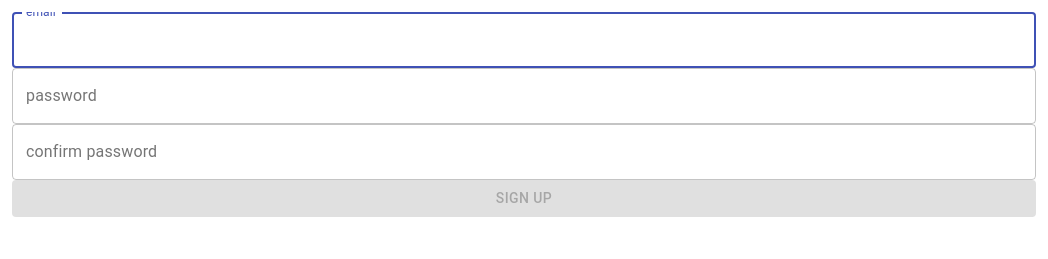
it: if all fields are filled in and validated, sign up button is no longer disabled.
The image size is (1048, 259).
Type "email@email.com" into the field labelled "email" at (524, 40), box [12, 12, 1036, 68]
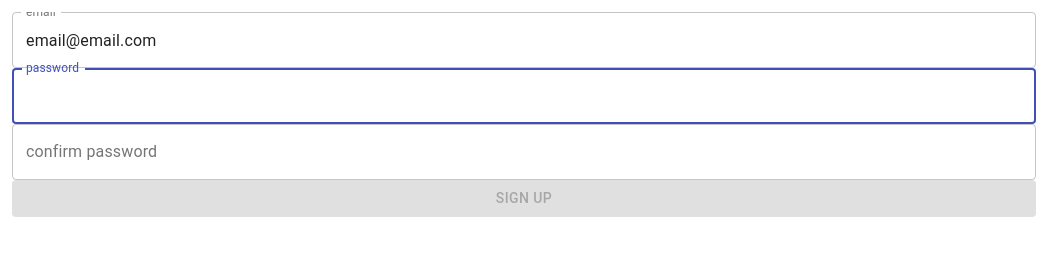
Type "password" into the password field labelled "password" at (524, 96), box [12, 68, 1036, 124]
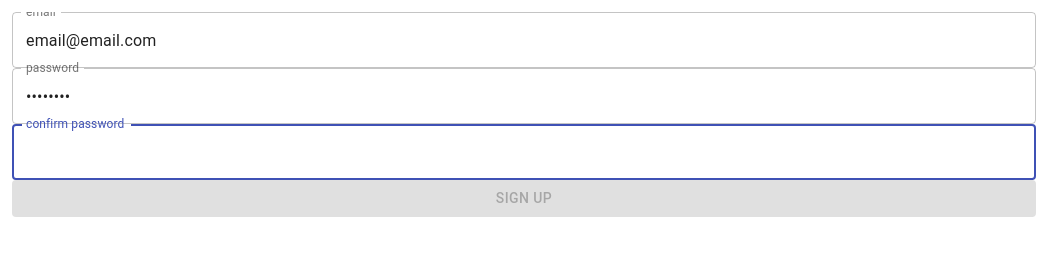
Type "password" into the password field labelled "confirm password" at (524, 152), box [12, 124, 1036, 180]
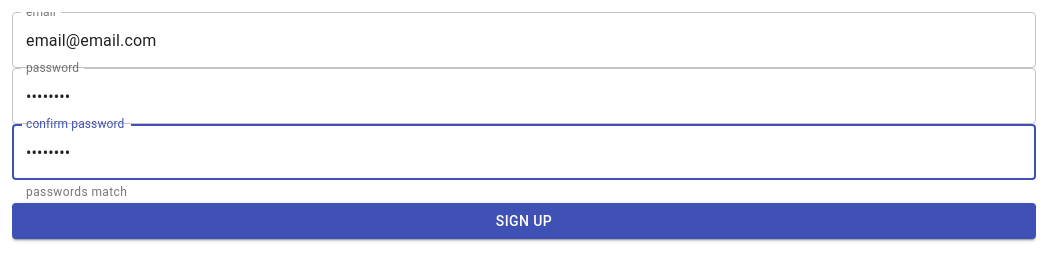
Now the button is enabled, box [12, 203, 1036, 239]
